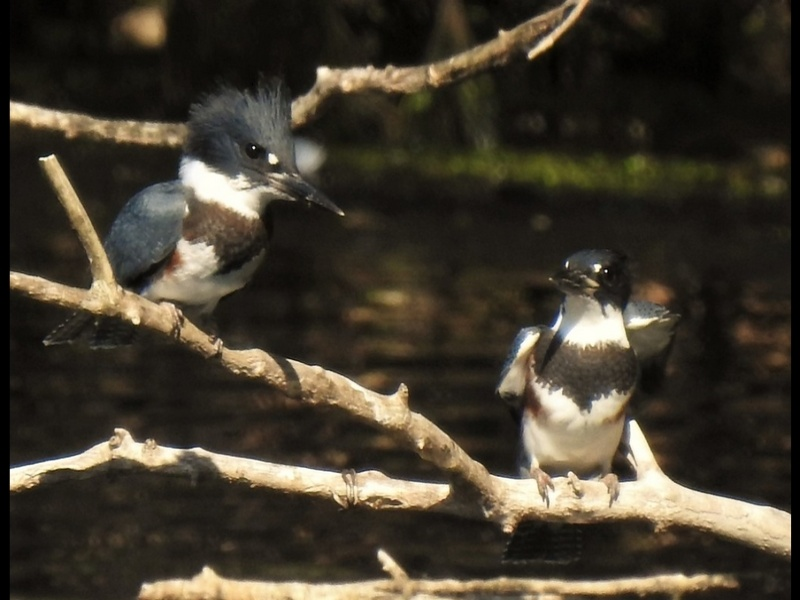kingfisher: (43, 72, 352, 350), (498, 244, 681, 501)
